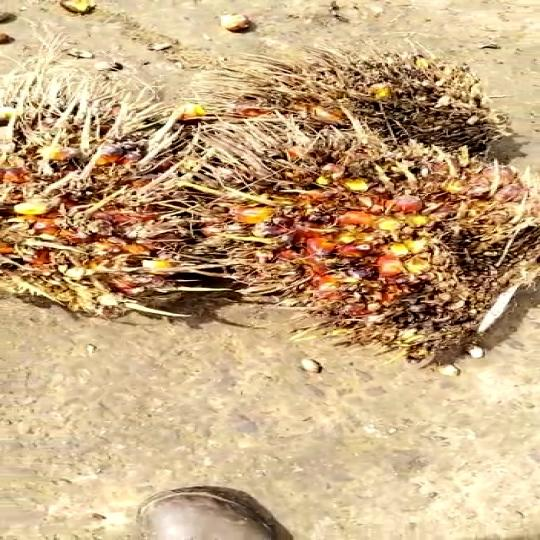terlalu masak: (175, 105, 535, 366), (0, 68, 203, 333), (196, 51, 531, 155)
